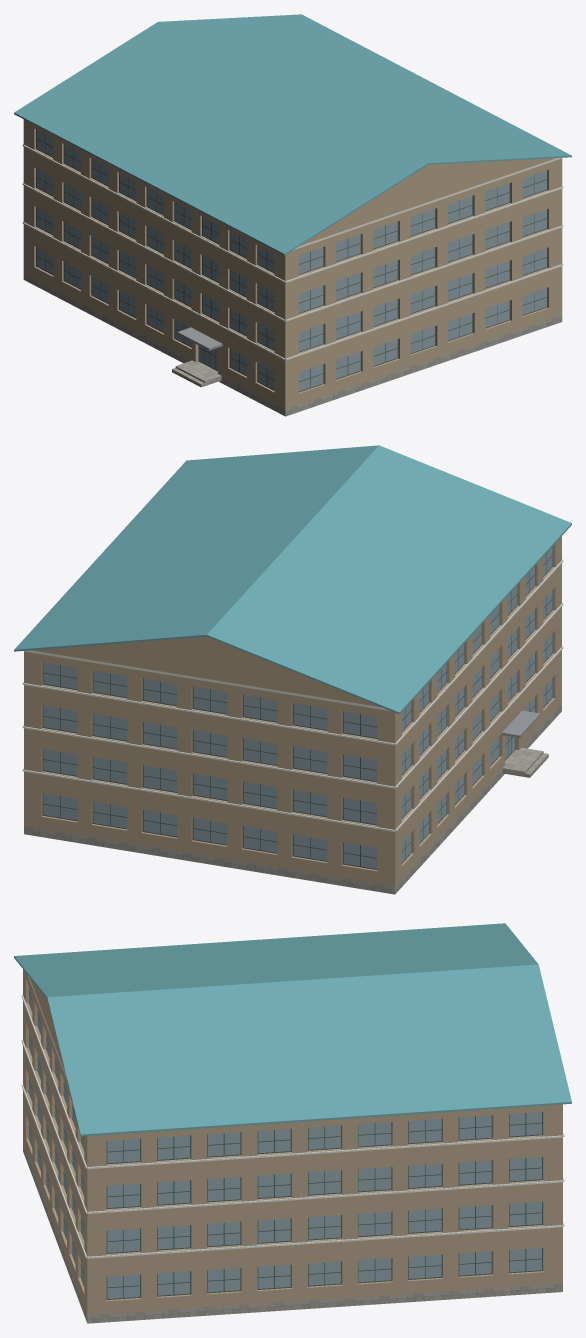
3 views of the same model, one above another, from view 1: azimuth 30°, elevation 25°; view 2: azimuth 150°, elevation 25°; view 3: azimuth 270°, elevation 25° (orthographic). The views are drawn at different scales.
Parts seen in each view (by area): view 1: east__tealroof, east__tile, east__glass, east__frame, east__cap, east__stone, east__canopy; view 2: east__tealroof, east__tile, east__glass, east__frame, east__cap, east__stone, east__canopy, east__threshold-east-w; view 3: east__tealroof, east__tile, east__glass, east__frame, east__cap, east__stone.
Boxes of the visible parts, left/top/right/bottom form: east__tealroof: left=14, top=14, right=571, bottom=255; east__tile: left=23, top=119, right=562, bottom=409; east__glass: left=36, top=130, right=546, bottom=391; east__frame: left=36, top=129, right=547, bottom=392; east__cap: left=22, top=144, right=563, bottom=360; east__stone: left=23, top=273, right=562, bottom=416; east__canopy: left=177, top=327, right=222, bottom=350; east__tealroof: left=14, top=445, right=571, bottom=714; east__tile: left=24, top=536, right=561, bottom=886; east__glass: left=43, top=547, right=552, bottom=868; east__frame: left=42, top=546, right=552, bottom=869; east__cap: left=22, top=559, right=563, bottom=831; east__stone: left=24, top=703, right=561, bottom=894; east__canopy: left=502, top=710, right=540, bottom=737; east__threshold-east-w: left=502, top=747, right=538, bottom=776; east__tealroof: left=14, top=923, right=571, bottom=1136; east__tile: left=23, top=969, right=562, bottom=1315; east__glass: left=29, top=987, right=541, bottom=1298; east__frame: left=28, top=992, right=542, bottom=1299; east__cap: left=21, top=975, right=564, bottom=1258; east__stone: left=23, top=1144, right=562, bottom=1323.
Size of the model in its own units: 34.37 by 18.28 by 38.35.
8 materials, 2 textured.
